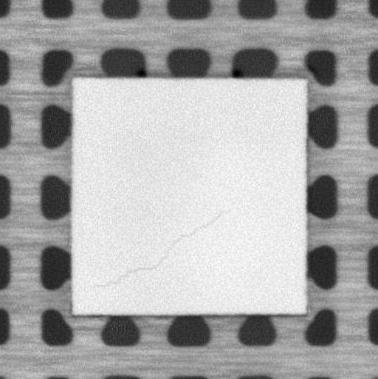DIE_CRACK: (96, 211, 223, 289)
